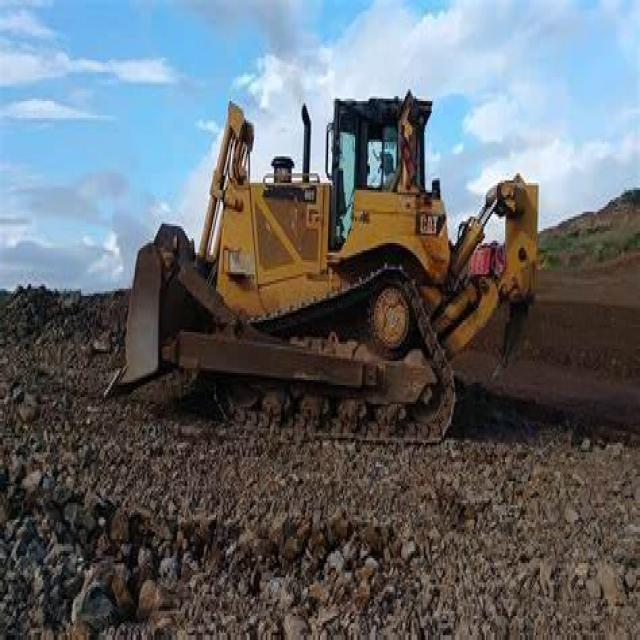Bulldozer: (100, 58, 541, 512)
